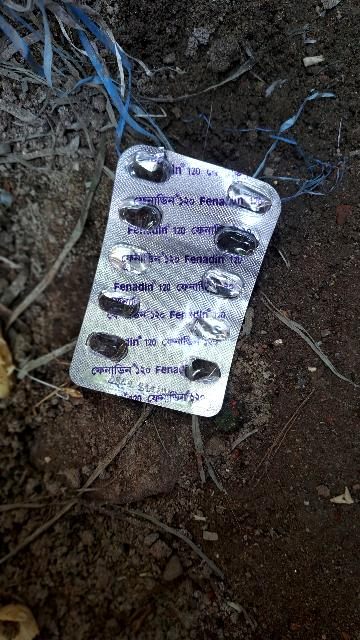medicine: (68, 142, 282, 416)
